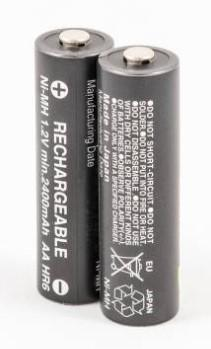Battery: (99, 46, 179, 326), (35, 28, 113, 304)
